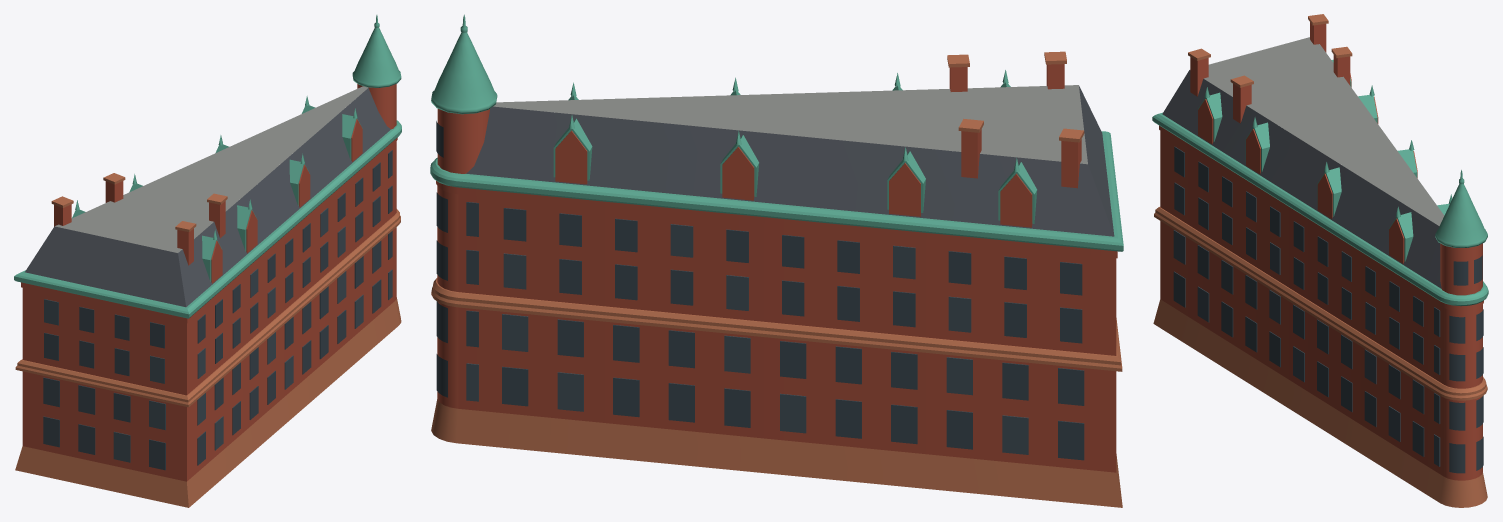
The model's file is flatiron-building-far.glb.
The picture shows the model from 3 angles, left to right: view 1: azimuth 30°, elevation 25°; view 2: azimuth 150°, elevation 25°; view 3: azimuth 270°, elevation 25°; orthographic projection. The views are drawn at different scales.
Parts seen in each view (by area): view 1: flatiron-building-0-brick, flatiron-building-0-slate, flatiron-building-0-stone, flatiron-building-0-glass, flatiron-building-0-roof, flatiron-building-0-copper, flatiron-building-0-glow; view 2: flatiron-building-0-brick, flatiron-building-0-slate, flatiron-building-0-stone, flatiron-building-0-glass, flatiron-building-0-roof, flatiron-building-0-copper, flatiron-building-0-glow; view 3: flatiron-building-0-brick, flatiron-building-0-stone, flatiron-building-0-glass, flatiron-building-0-roof, flatiron-building-0-slate, flatiron-building-0-copper, flatiron-building-0-glow.
Boxes of the visible parts, x1,y1,x2,y2 form: flatiron-building-0-brick: [21, 84, 397, 481]; flatiron-building-0-slate: [25, 88, 390, 307]; flatiron-building-0-stone: [15, 173, 401, 507]; flatiron-building-0-glass: [43, 150, 392, 470]; flatiron-building-0-roof: [55, 86, 368, 252]; flatiron-building-0-copper: [14, 15, 401, 318]; flatiron-building-0-glow: [44, 208, 392, 462]; flatiron-building-0-brick: [436, 64, 1117, 472]; flatiron-building-0-slate: [466, 86, 1114, 236]; flatiron-building-0-stone: [431, 51, 1122, 507]; flatiron-building-0-glass: [436, 121, 1084, 460]; flatiron-building-0-roof: [493, 85, 1087, 164]; flatiron-building-0-copper: [430, 14, 1123, 251]; flatiron-building-0-glow: [466, 224, 1028, 454]; flatiron-building-0-brick: [1159, 22, 1483, 480]; flatiron-building-0-stone: [1153, 14, 1487, 507]; flatiron-building-0-glass: [1173, 146, 1483, 473]; flatiron-building-0-roof: [1204, 37, 1444, 225]; flatiron-building-0-slate: [1162, 70, 1441, 288]; flatiron-building-0-copper: [1152, 59, 1488, 306]; flatiron-building-0-glow: [1173, 182, 1440, 466].
Bounding box in the file's own units: 39.6 × 26 × 24.17.
